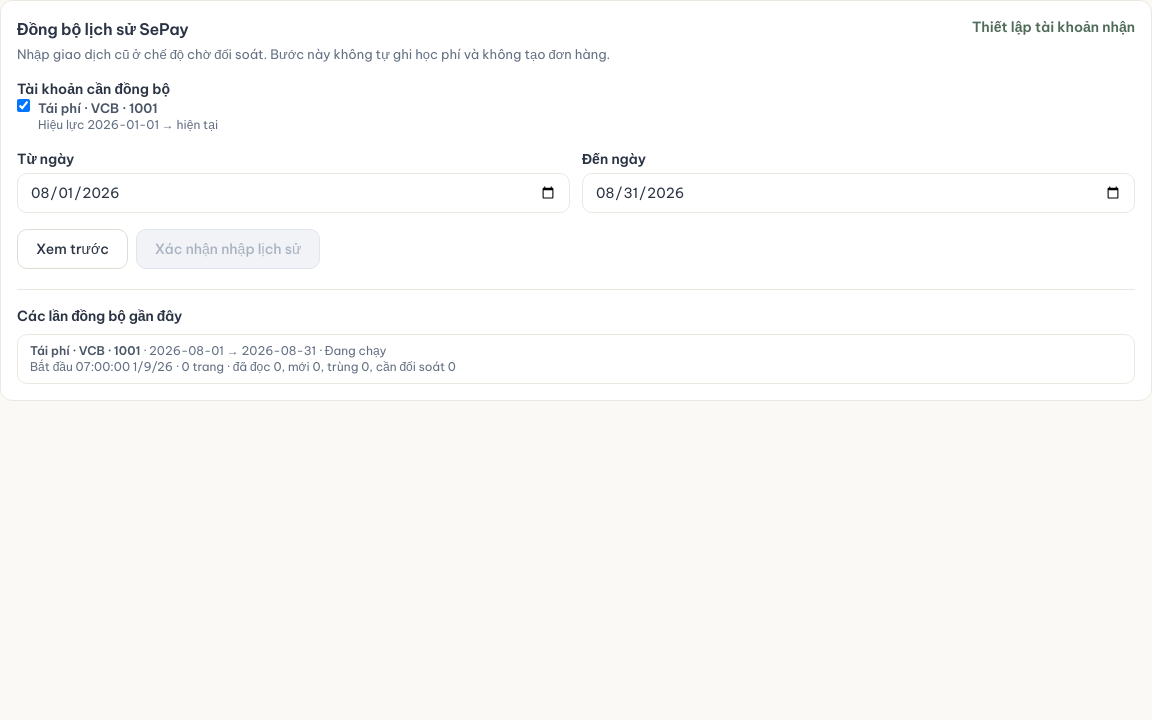
SePay history sync panel › retains the retry session on transport loss and excludes terminal stale sessions
The image size is (1152, 720).
Click the button "Xem trước" at (72, 249), box [17, 229, 128, 269]
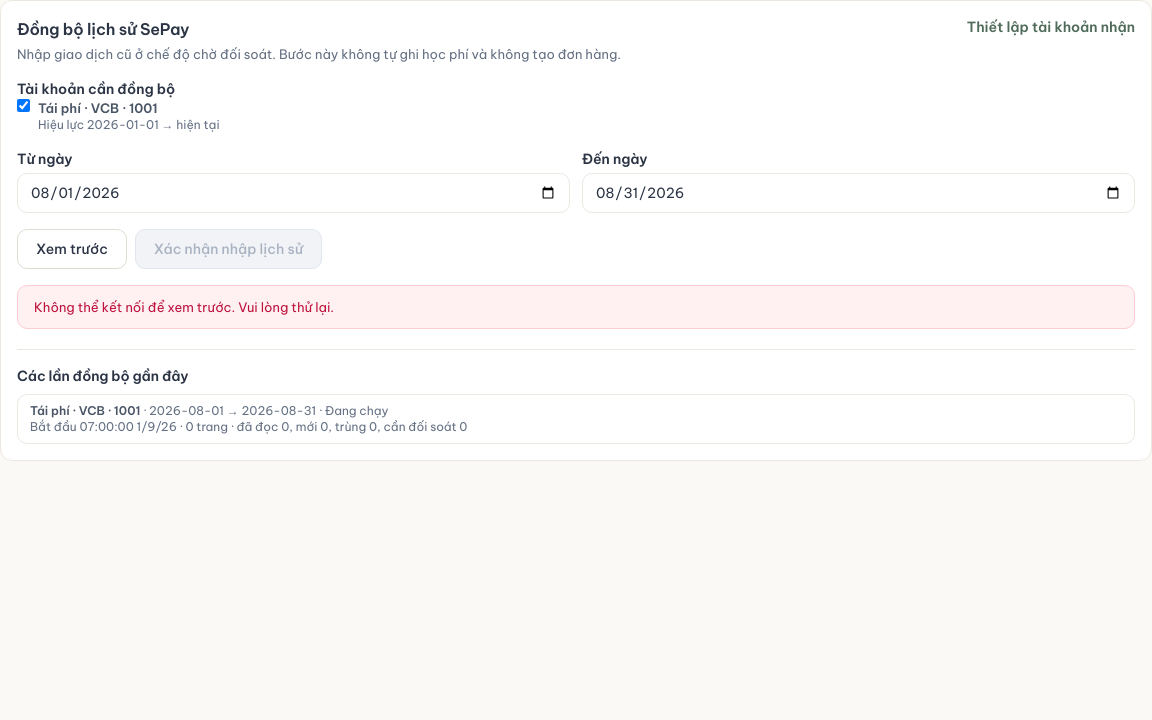
Expected: the button "Xác nhận nhập lịch sử" is disabled, [135, 229, 322, 269]
Result: the text "Không thể kết nối để xem trước. Vui lòng thử lại." is shown at [34, 299, 334, 315]
Click the button "Xem trước" at (72, 249), box [17, 229, 127, 269]
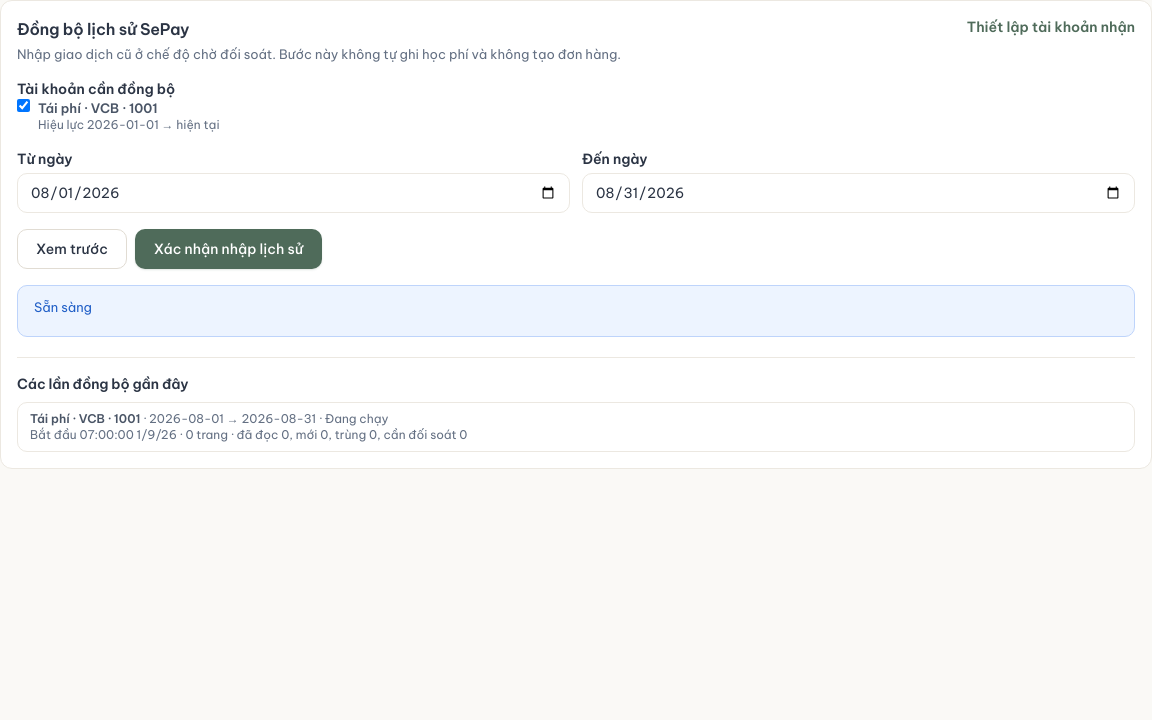
Result: the button "Xác nhận nhập lịch sử" is enabled
Click the button "Xác nhận nhập lịch sử" at (228, 249), box [135, 229, 322, 269]
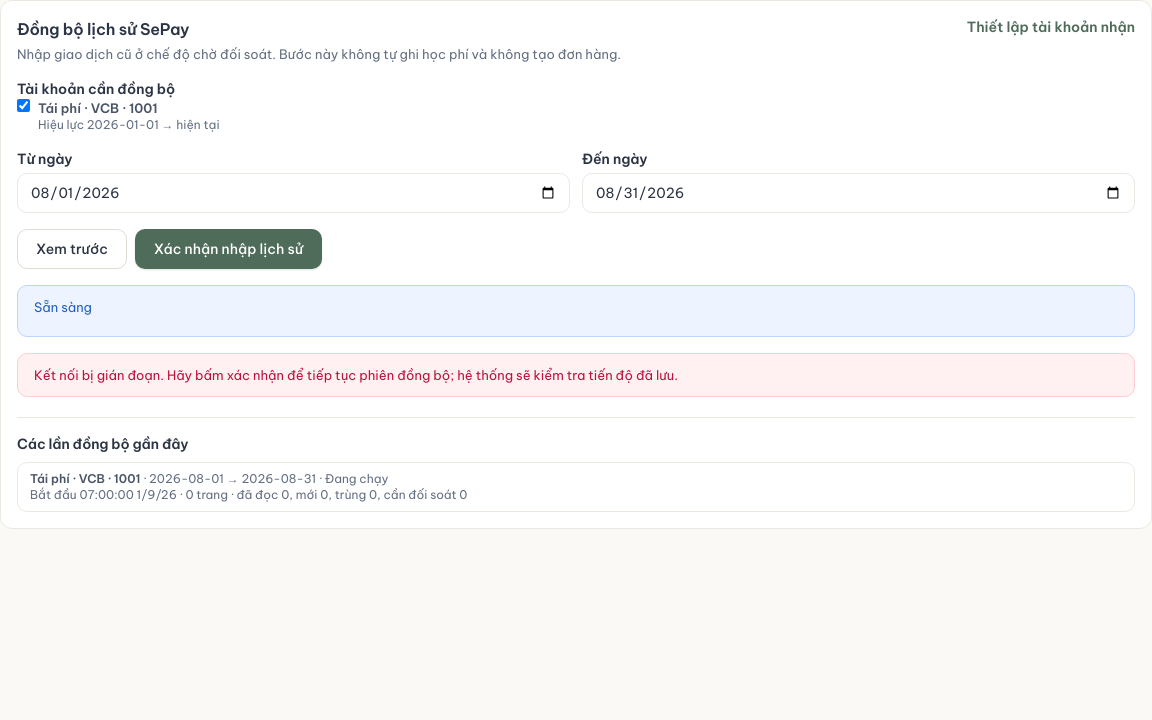
Result: the button "Xác nhận nhập lịch sử" is enabled
Result: the text "Kết nối bị gián đoạn" is shown at [34, 367, 678, 383]
Click the button "Xác nhận nhập lịch sử" at (228, 249), box [135, 229, 322, 269]
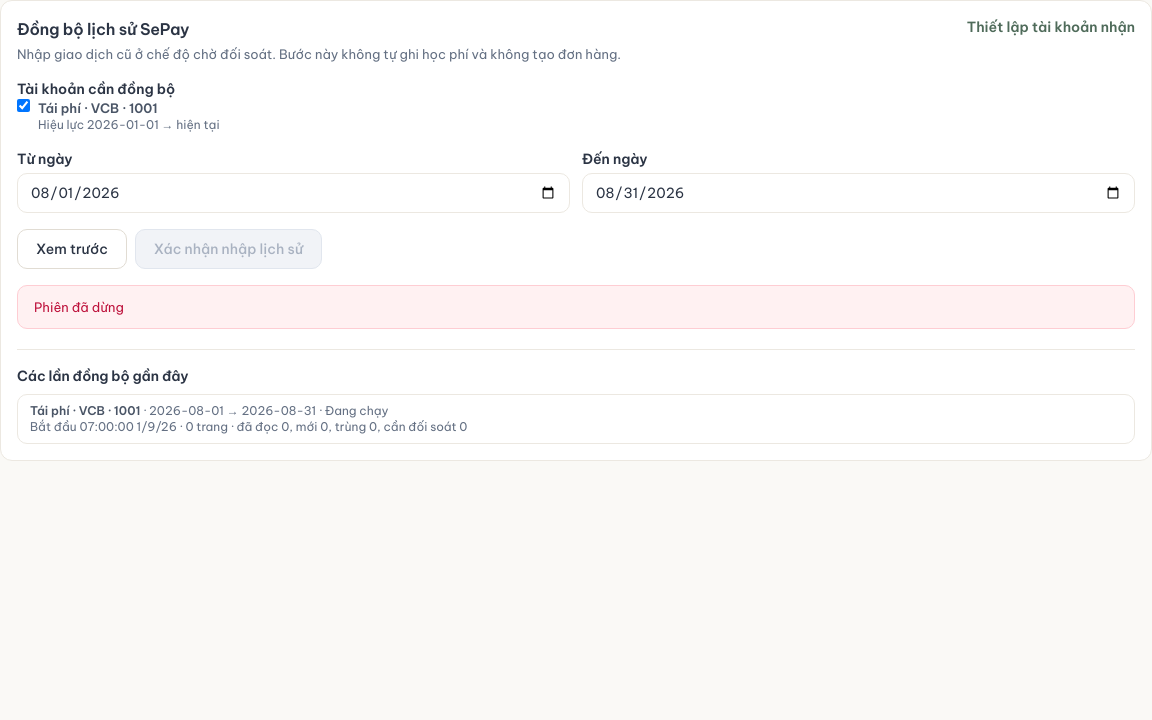
Result: the text "Phiên đã dừng" is shown at [17, 285, 1135, 329]
Result: the button "Xác nhận nhập lịch sử" is disabled at [135, 229, 322, 269]
Click the button "Xem trước" at (72, 249), box [17, 229, 127, 269]
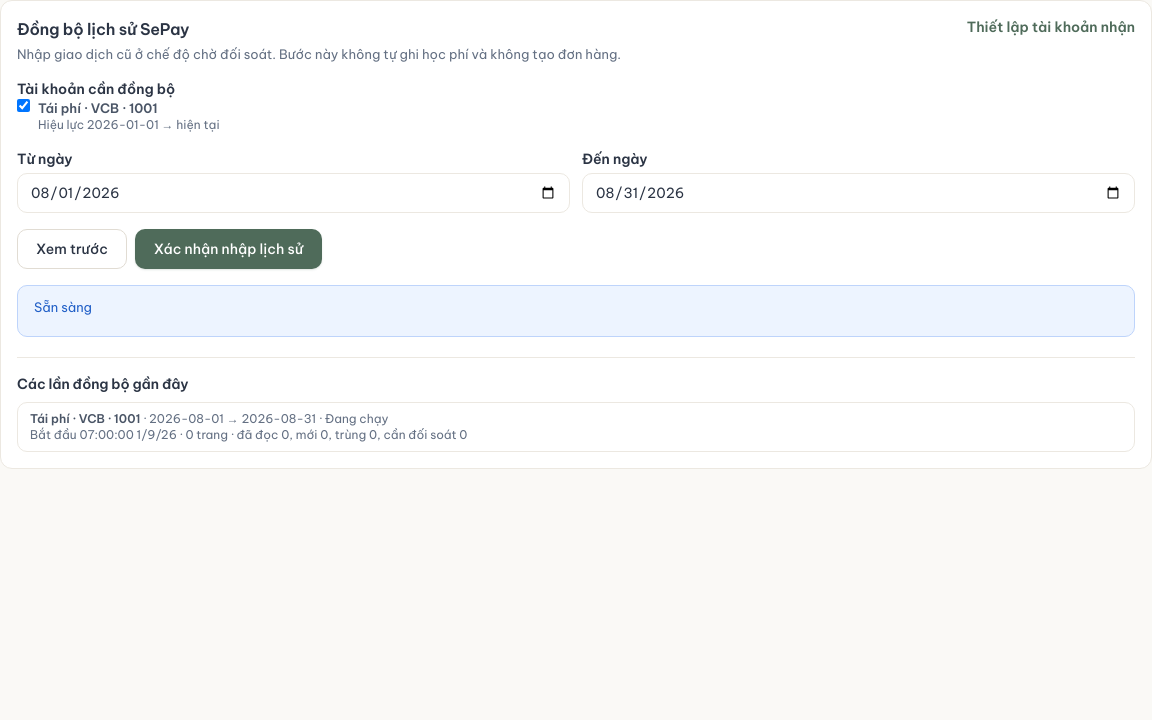
Result: the button "Xác nhận nhập lịch sử" is enabled
Click the button "Xác nhận nhập lịch sử" at (228, 249), box [135, 229, 322, 269]
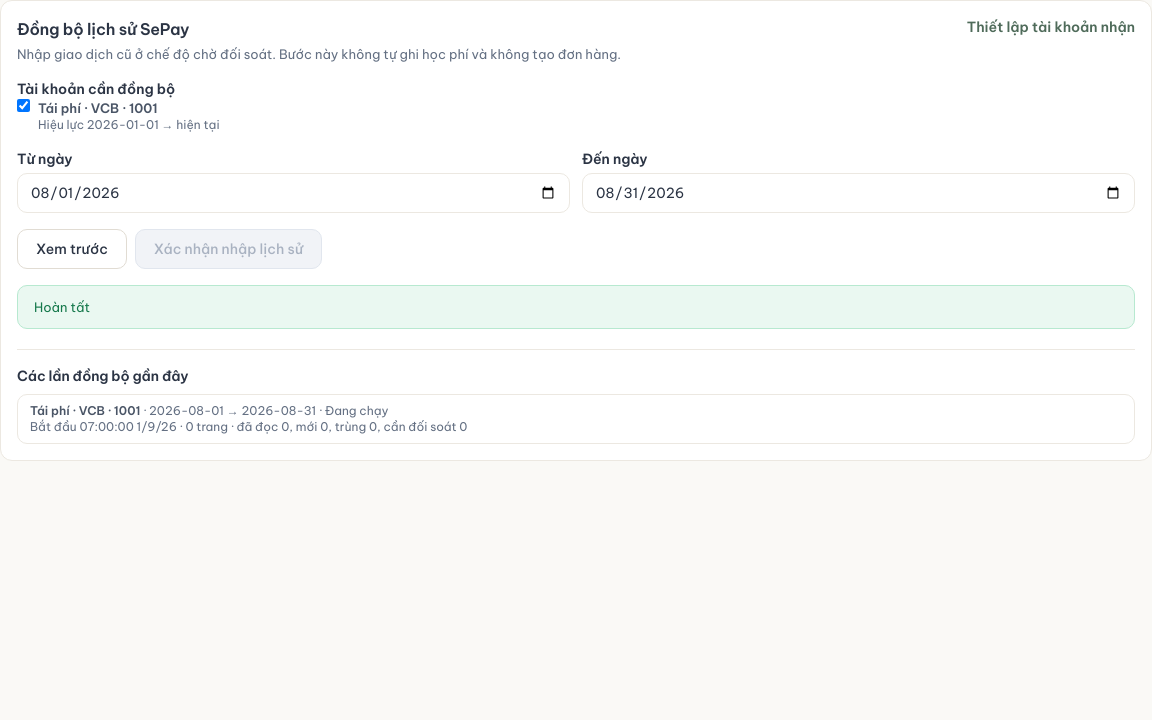
Result: the text "Hoàn tất" is shown at [17, 285, 1135, 329]
